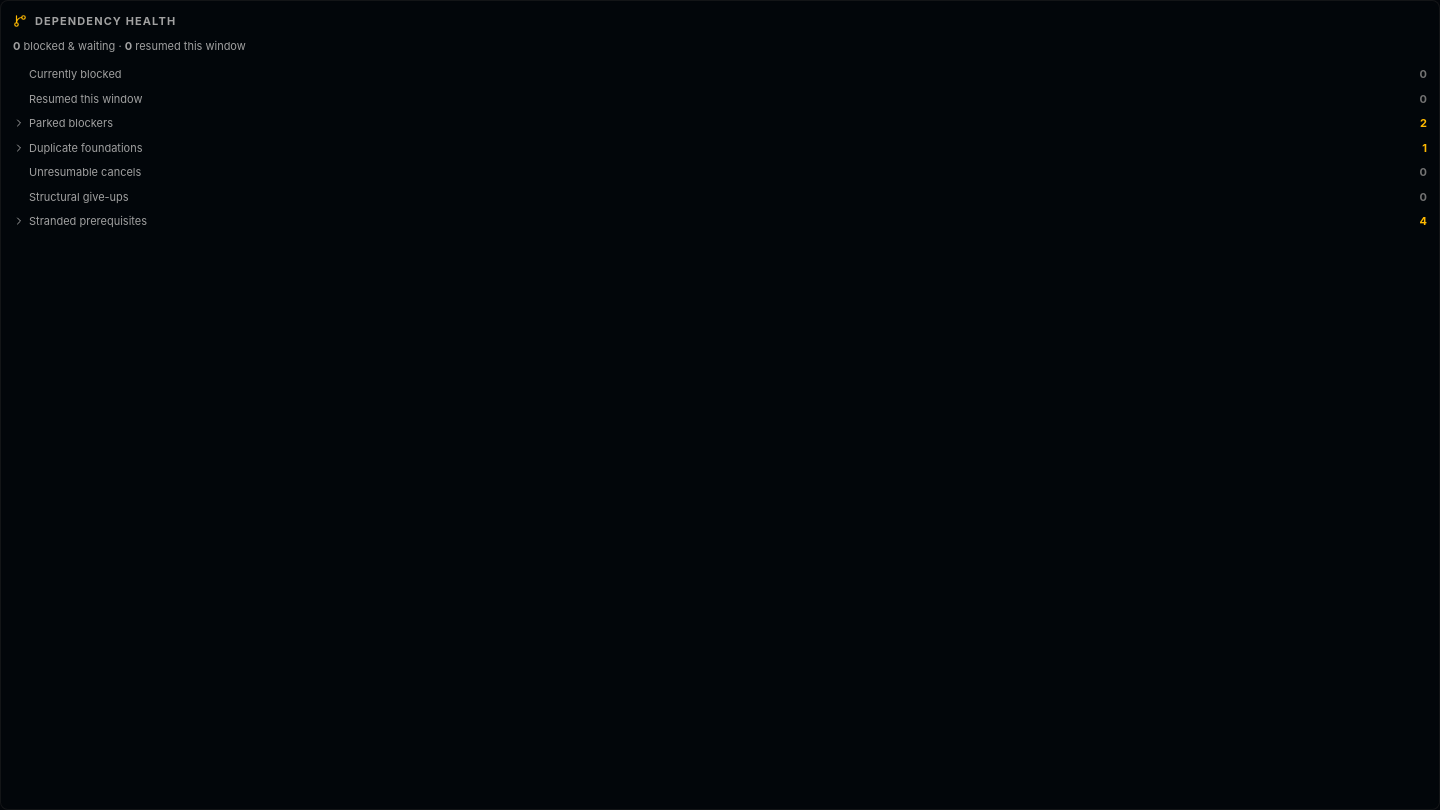
Scenario: DependencyHealthCard › renders stranded prerequisites row with count and expands to show split and demands
Expected: the text "still blocked" is not shown
Click the text "Stranded prerequisites" at (80, 221), box [13,213,147,230]
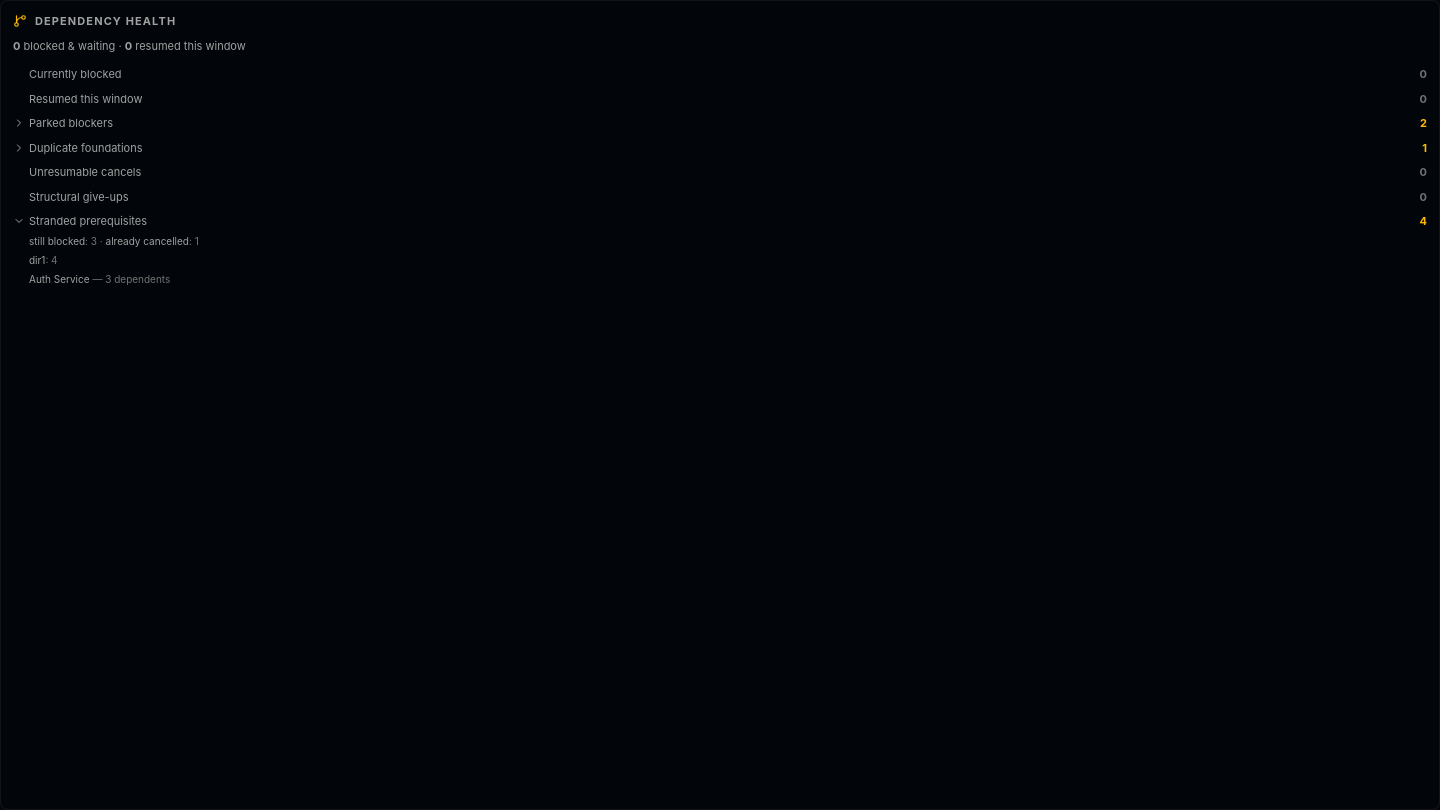
Expected: the text "still blocked" is shown, [29,234,85,246]
Expected: the text "Auth Service" is shown, [29,272,90,284]
Expected: the list item "Auth Service — 3 dependents" is shown, [29,272,170,284]
